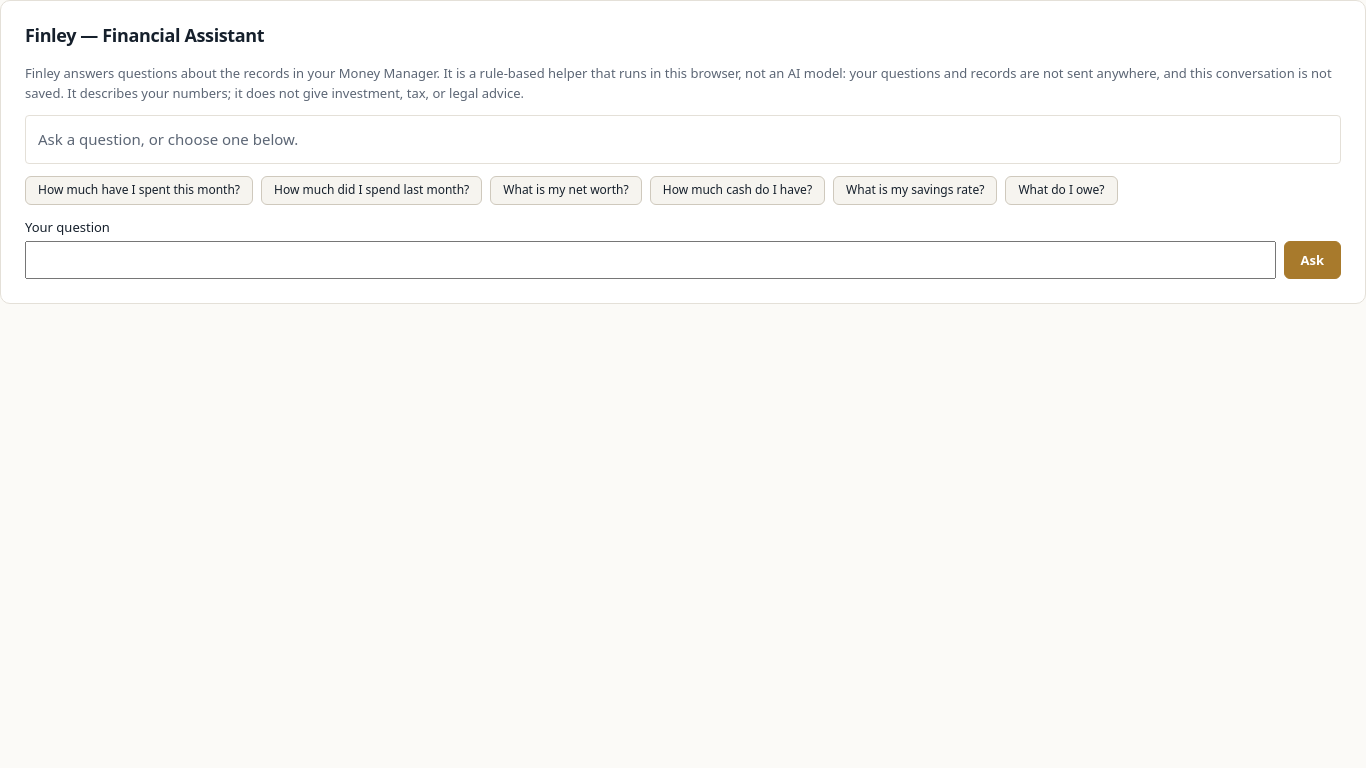
it: FinleyPanel › answers a typed question from the user's records
In the field labelled "Your question": coordinates (650, 260) [25, 241, 1276, 279], type "What is my net worth?"
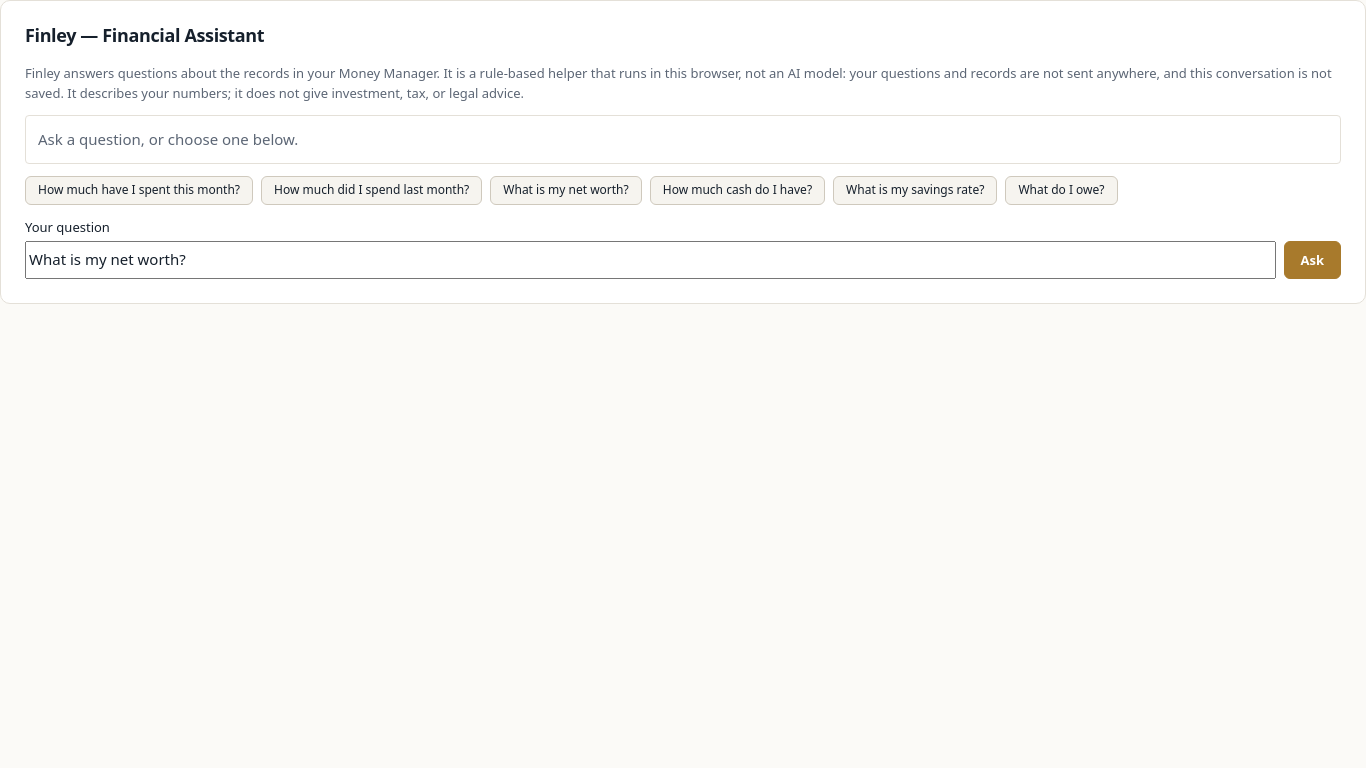
Click the button "Ask": coordinates (1312, 260) [1284, 241, 1341, 279]
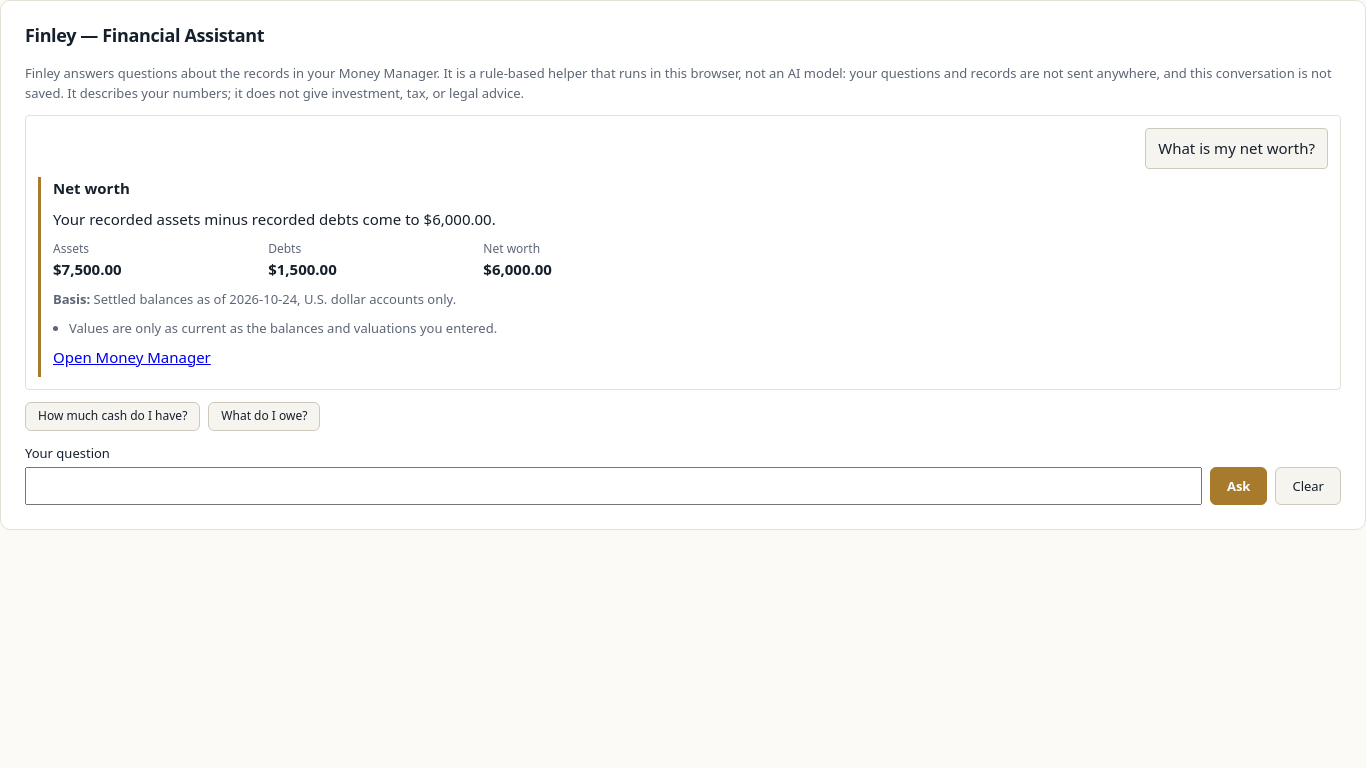
Expected: the field labelled "Your question" is empty, [25, 467, 1202, 505]
Expected: the element named "Conversation with Finley" shows "What is my net worth?", [1158, 138, 1315, 158]
Expected: the element named "Conversation with Finley" shows "$6,000.00", [483, 259, 552, 279]
